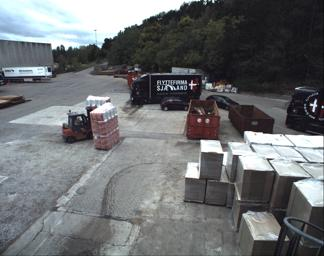rockwool_batts: (89, 104, 120, 147), (86, 92, 110, 121)
